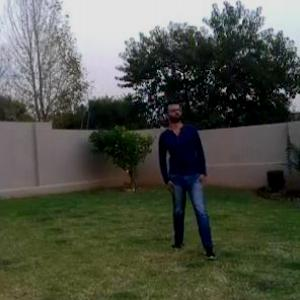follow: (157, 92, 212, 252)
